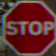Stop: (5, 7, 53, 46)
